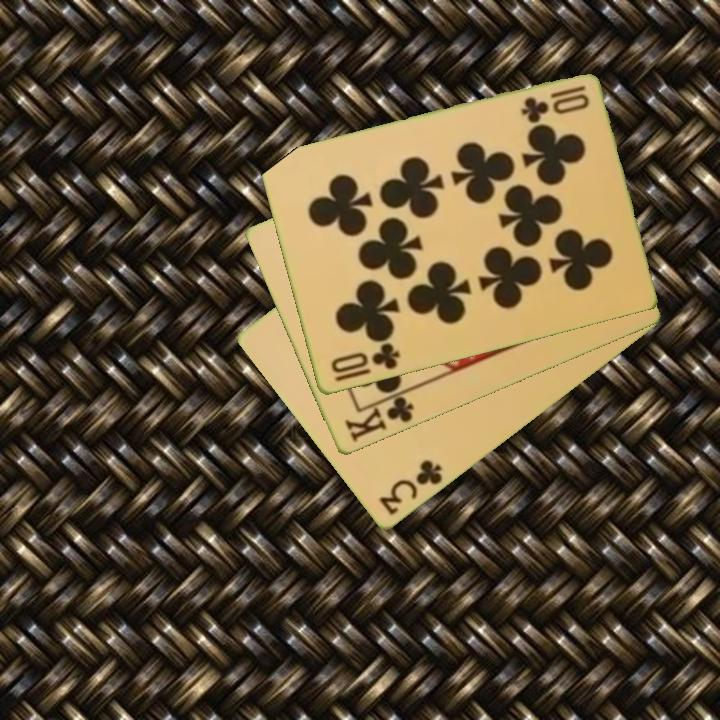10c: (517, 82, 588, 125), (327, 340, 403, 377)
3c: (375, 456, 446, 519)
Kc: (340, 387, 417, 446)
